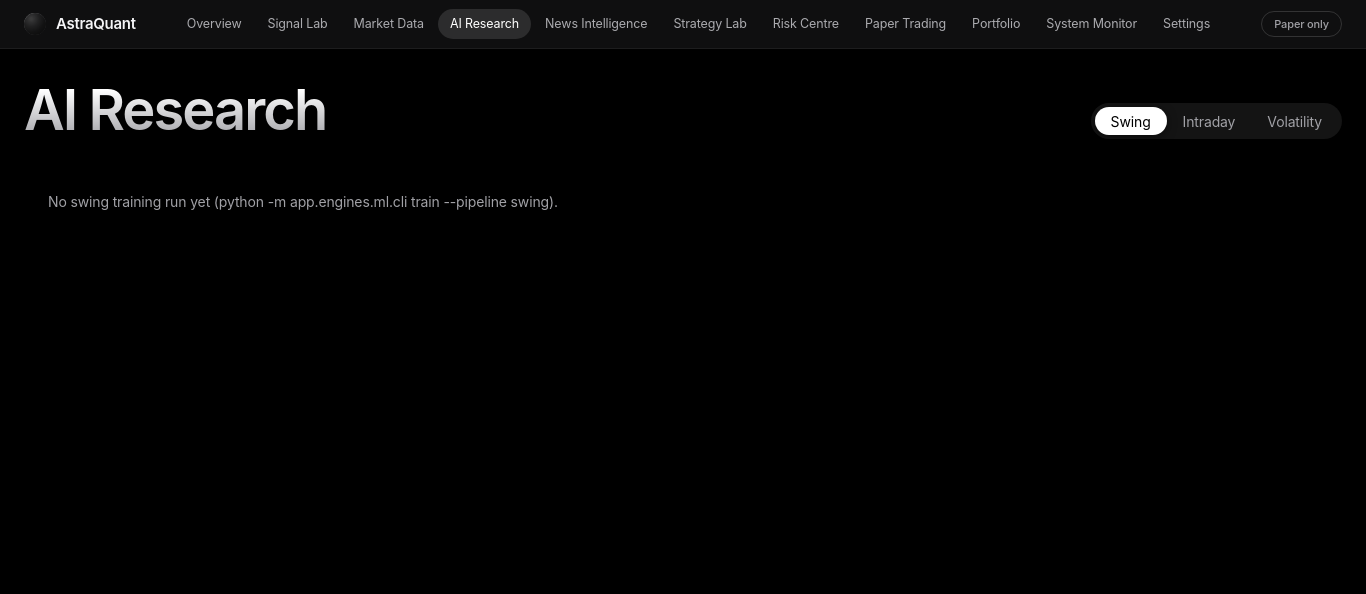
Test: Volatility tab › shows the promoted volatility model against its baselines
Click the tab "Volatility" at (1295, 121), box [1251,107,1338,135]
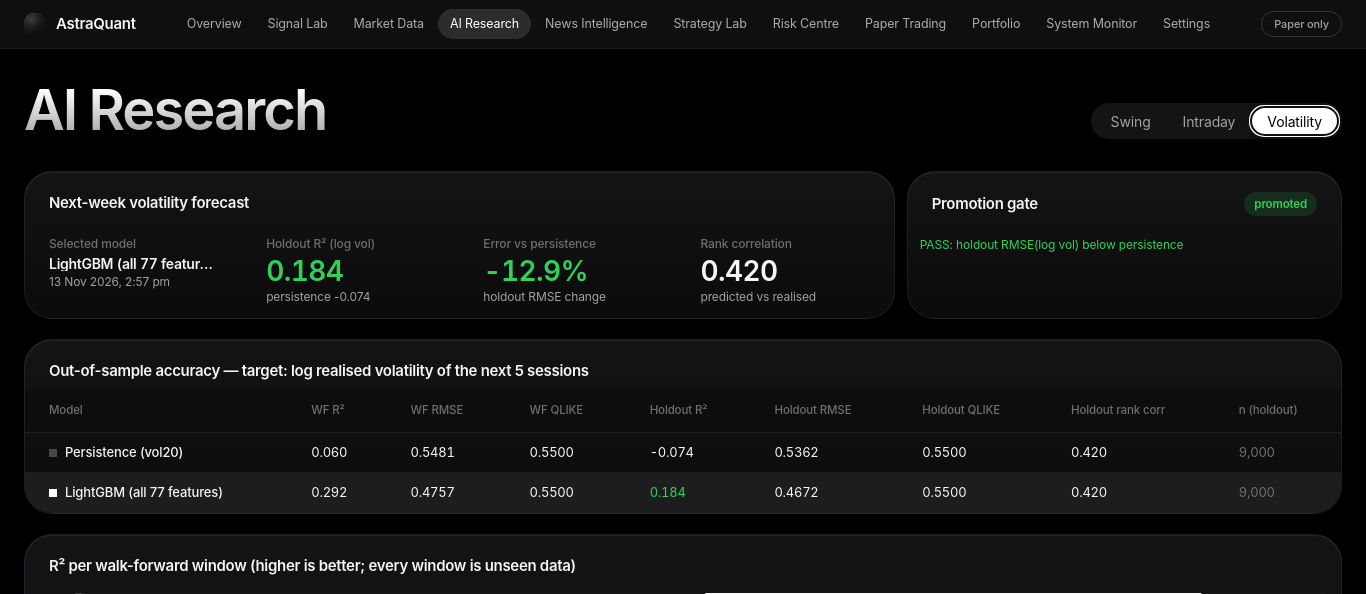
Result: the text "promoted" is shown at [1244,192,1317,216]
Result: the text "0.184" is shown at [266,254,343,288]
Result: the text "-12.9%" is shown at [483,254,588,288]
